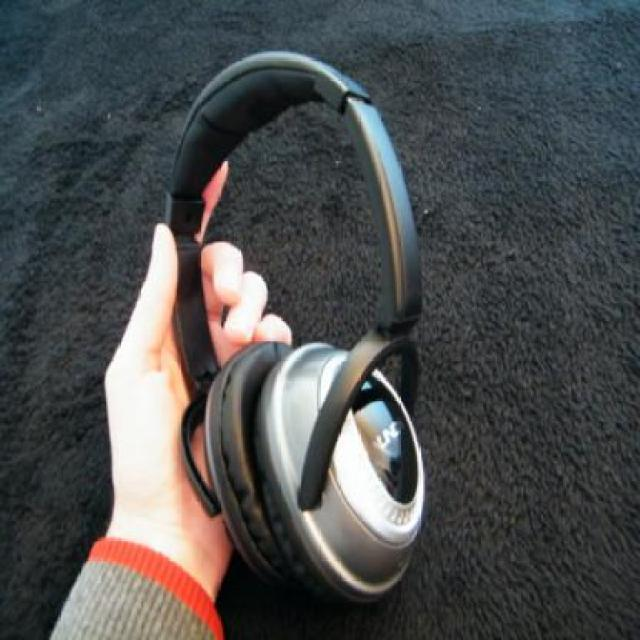earphone: (155, 48, 450, 572)
